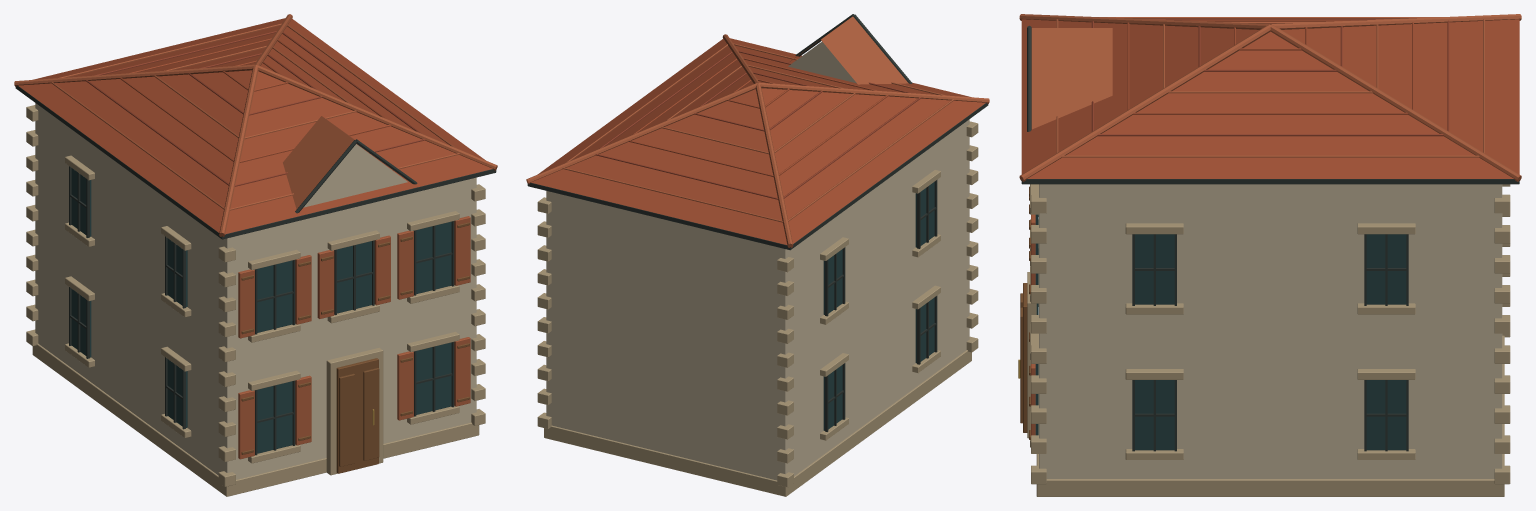
The model's file is house_c.glb.
The picture shows the model from 3 angles, left to right: view 1: azimuth 30°, elevation 25°; view 2: azimuth 150°, elevation 25°; view 3: azimuth 270°, elevation 25°; orthographic projection. The views are drawn at different scales.
Visible parts, largest first — view 1: house; view 2: house; view 3: house.
Boxes of the visible parts, x1=… form: house: x1=14, y1=14, x2=497, y2=496; house: x1=526, y1=14, x2=989, y2=496; house: x1=1018, y1=14, x2=1521, y2=496.
Size of the model in its own units: 7.36 by 8.35 by 9.56.
